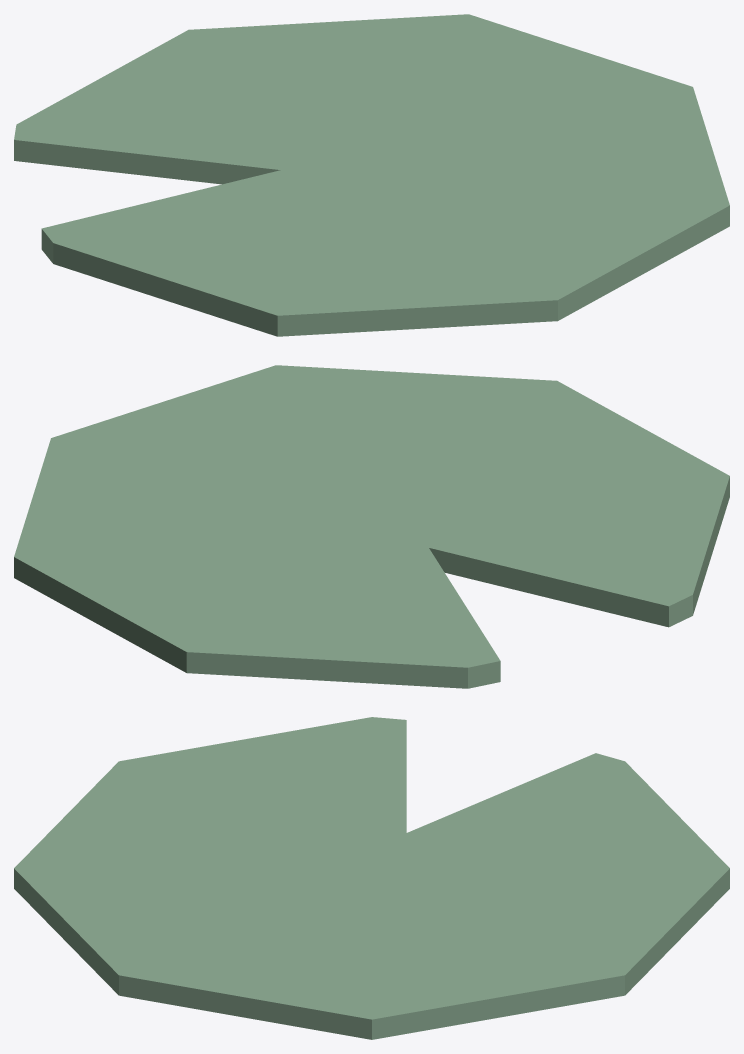
File: Lily-Pad2.fbx
3 renders of one model, top to bottom at view 1: azimuth 30°, elevation 25°; view 2: azimuth 150°, elevation 25°; view 3: azimuth 270°, elevation 25°, orthographic. The views are drawn at different scales.
Visible parts, largest first — view 1: Smol_Lily_Pad; view 2: Smol_Lily_Pad; view 3: Smol_Lily_Pad.
Boxes of the visible parts, x1,y1,x2,y2 form: Smol_Lily_Pad: (14, 14, 729, 336); Smol_Lily_Pad: (14, 365, 729, 688); Smol_Lily_Pad: (14, 717, 729, 1039).
Bounding box in the file's own units: 0.1598 × 0.00501 × 0.1598.
